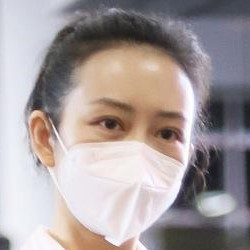mask: (44, 126, 187, 247)
